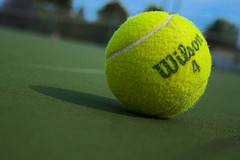tennis ball: (100, 5, 217, 122)
